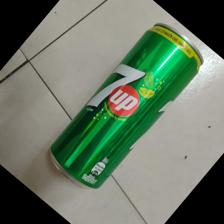7up: (46, 21, 204, 192)
